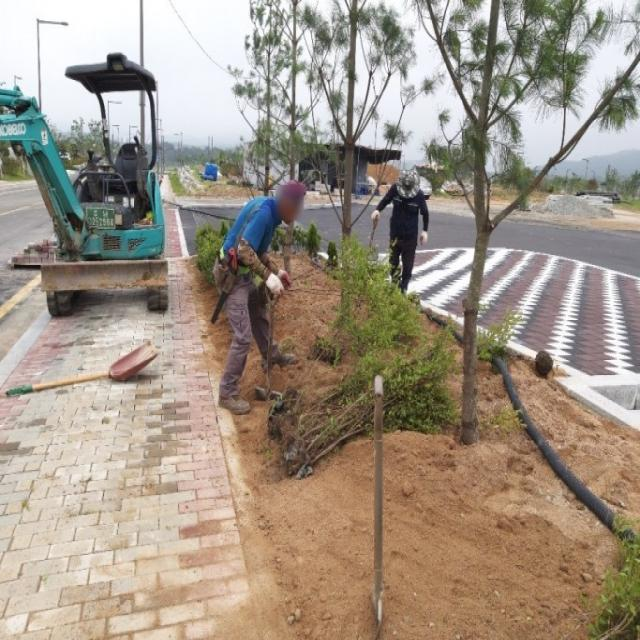excavator: (0, 52, 169, 317)
plant: (417, 0, 640, 444), (281, 309, 526, 476), (307, 0, 417, 321), (256, 0, 330, 281), (227, 0, 306, 196), (309, 238, 428, 362), (587, 512, 640, 639), (196, 220, 230, 284)
